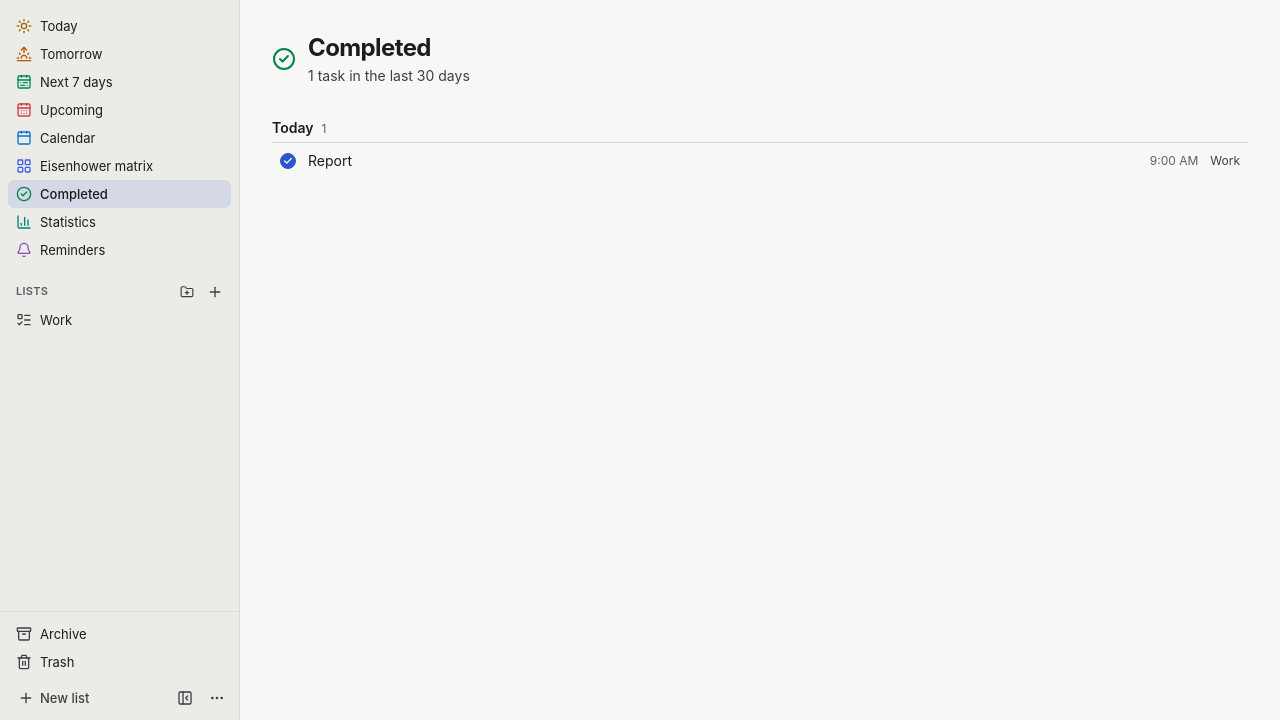
it: Completed › puts a task back in its list when unticked
Click the checkbox named "Report" at (288, 161), box [280,153,296,169]
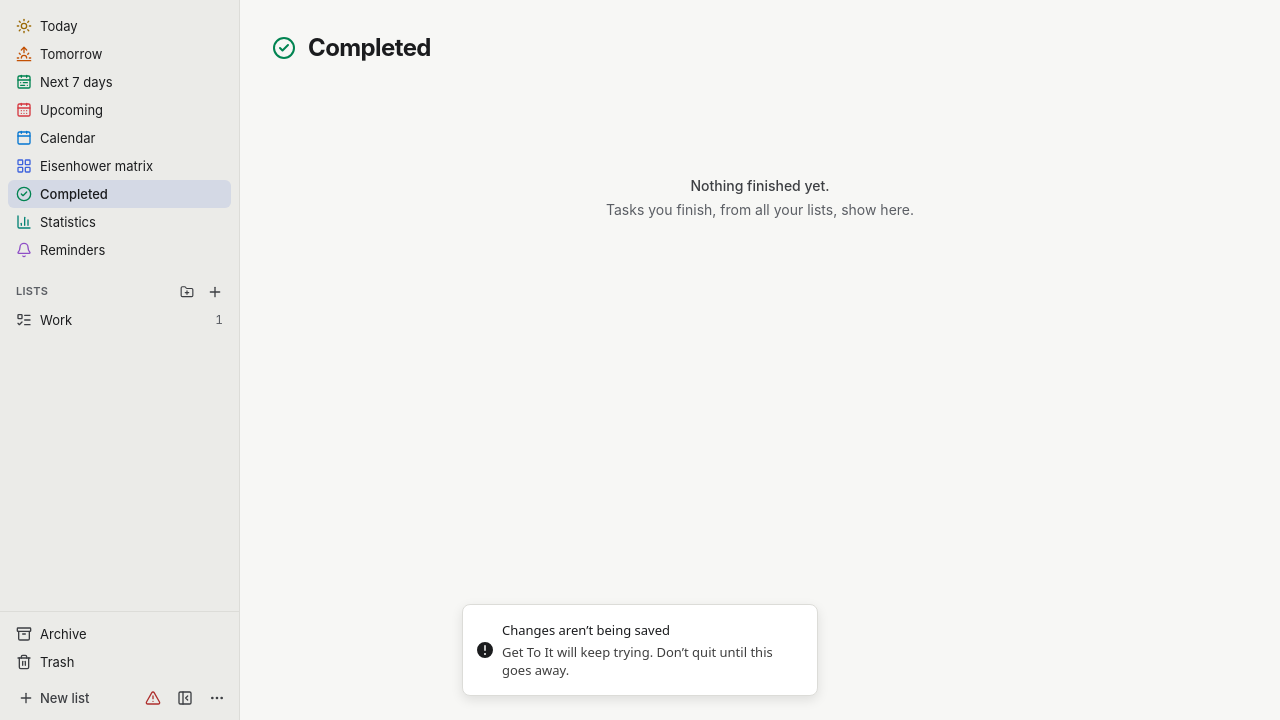
Now the button "Report" is gone
